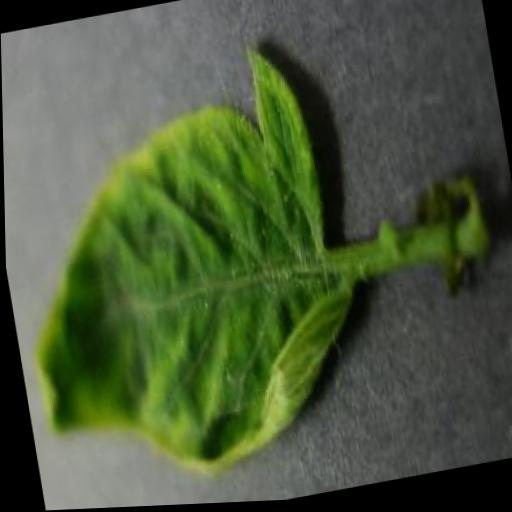Yellow Leaf Curl Virus: (1, 36, 377, 498)
